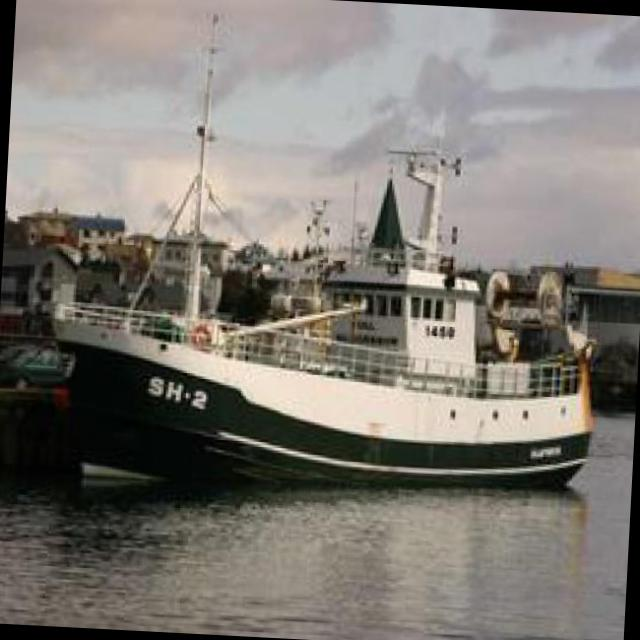boat: (26, 272, 618, 504)
